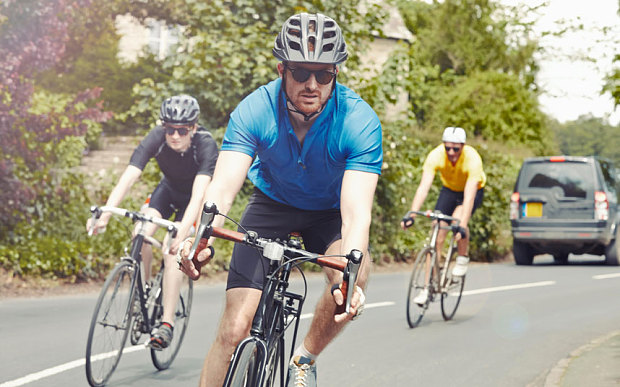with_helmet: (274, 13, 348, 69), (158, 95, 202, 124)
